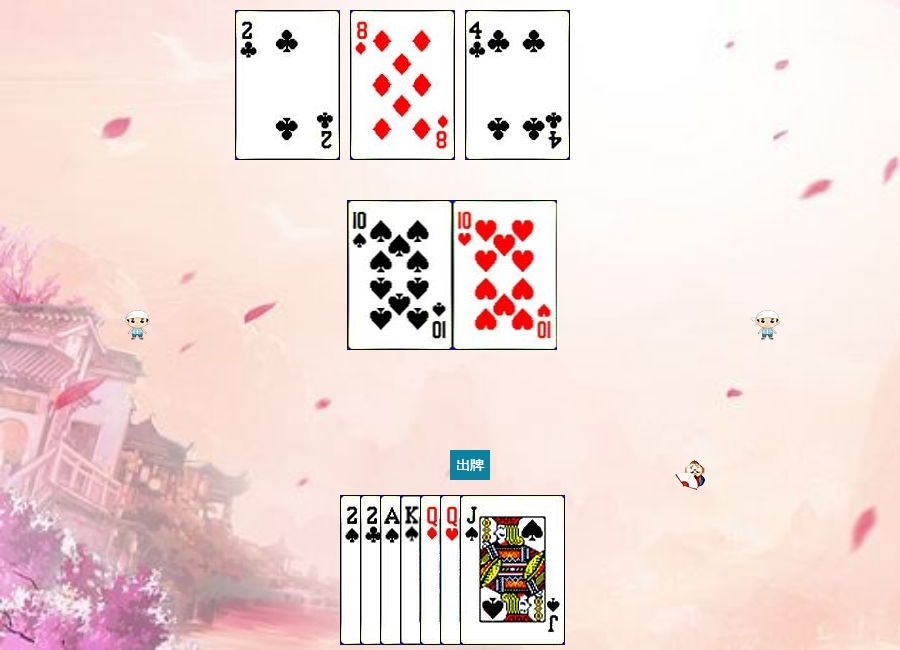10~3: (453, 200, 558, 350)
10~4: (348, 200, 453, 350)
11~4: (460, 495, 565, 645)
12~1: (420, 495, 525, 645)
12~3: (440, 495, 545, 645)
13~4: (400, 495, 505, 645)
14~4: (380, 495, 485, 645)
15~2: (235, 10, 340, 160), (360, 495, 465, 645)
15~4: (340, 495, 445, 645)
4~2: (465, 10, 570, 160)
8~1: (350, 10, 455, 160)
